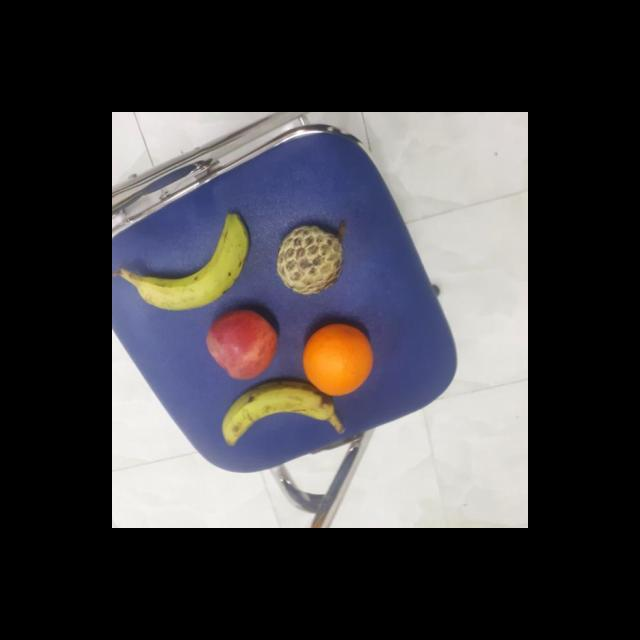Sakya fruit: (274, 220, 348, 296)
apple: (205, 311, 281, 382)
banana: (132, 210, 252, 314), (218, 376, 342, 449)
orange: (302, 322, 376, 398)
